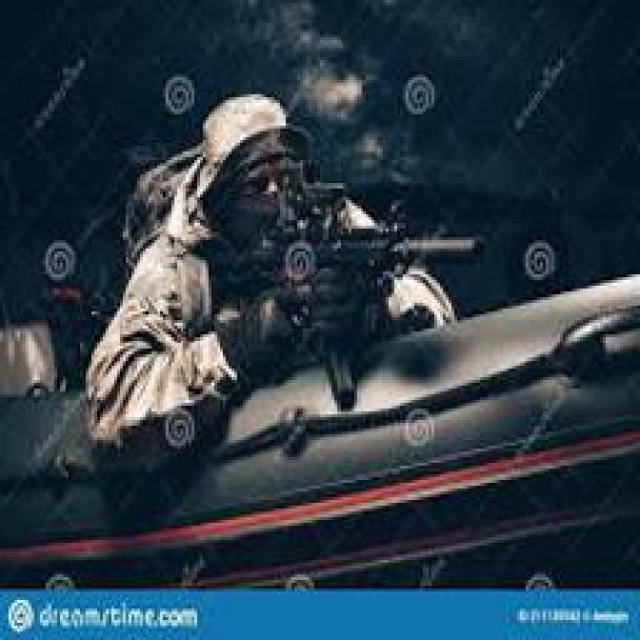Rifle: (243, 156, 474, 327)
